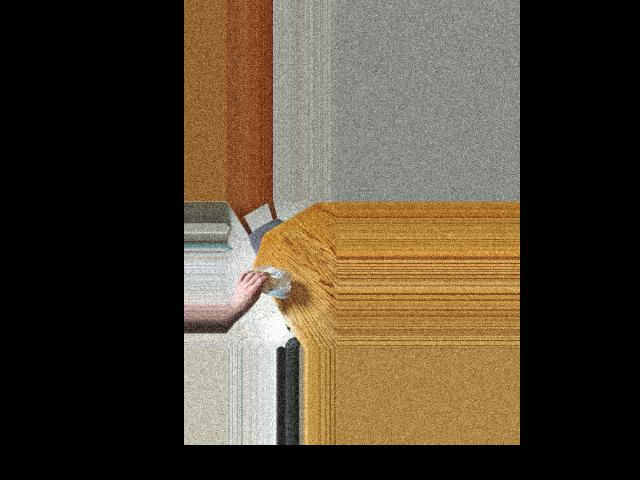cheese: (241, 266, 278, 299)
